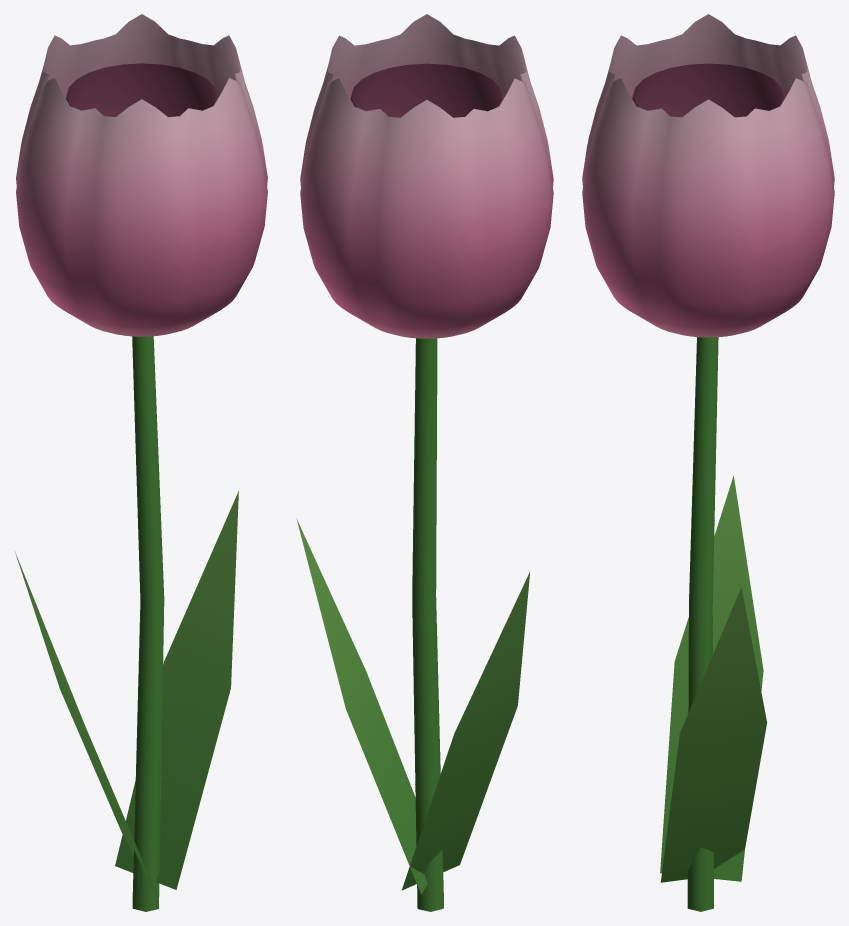
Rendered from Tulip_Pink.fbx.
The picture shows the model from 3 angles, left to right: view 1: azimuth 30°, elevation 25°; view 2: azimuth 150°, elevation 25°; view 3: azimuth 270°, elevation 25°; orthographic projection.
Visible parts, largest first — view 1: Tulip_Pink; view 2: Tulip_Pink; view 3: Tulip_Pink.
Boxes of the visible parts, x1=… form: Tulip_Pink: x1=15, y1=14, x2=267, y2=911; Tulip_Pink: x1=296, y1=14, x2=553, y2=911; Tulip_Pink: x1=582, y1=14, x2=834, y2=911.
Size of the model in its own units: 1.73 by 6.13 by 1.65.
